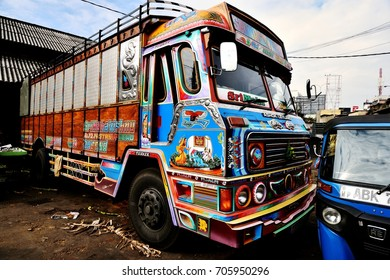threewheel: (310, 115, 390, 261)
truck: (19, 1, 315, 249)
